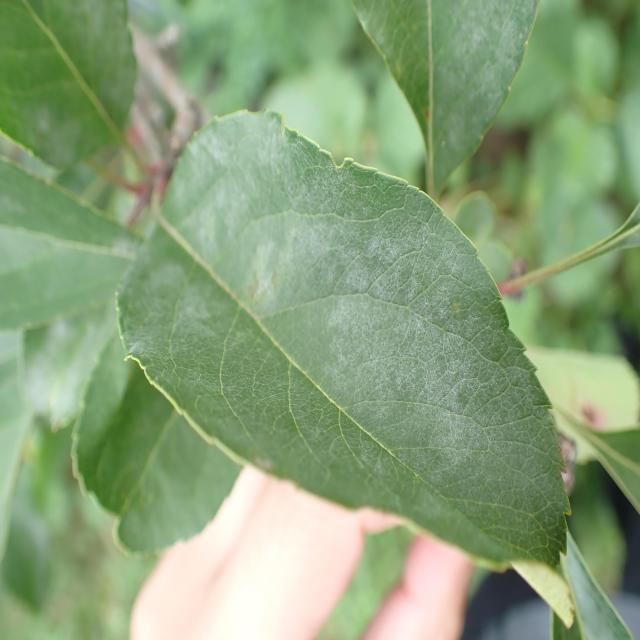Powdery_mildew: (138, 122, 532, 542), (361, 0, 544, 197)
